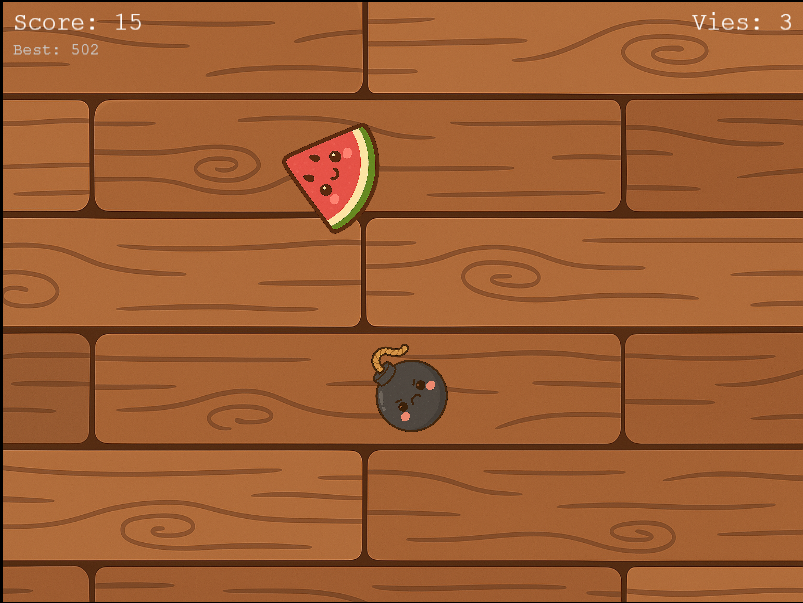bomb: (364, 335, 453, 440)
fruit: (278, 120, 388, 233)
